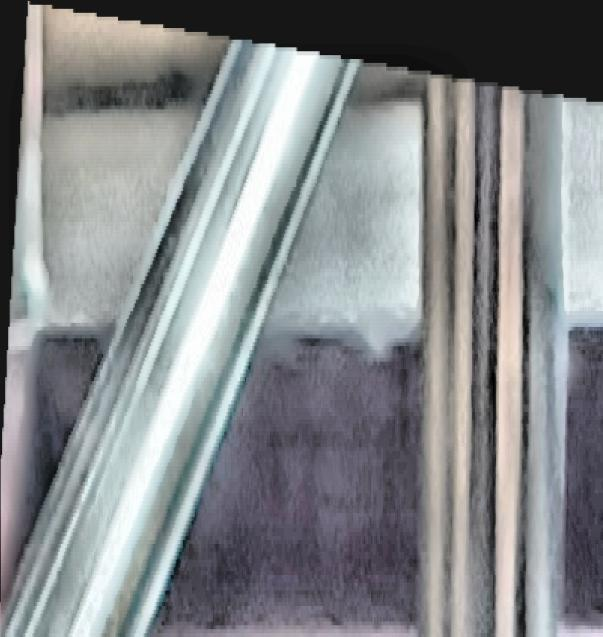stairs: (1, 1, 603, 637)
